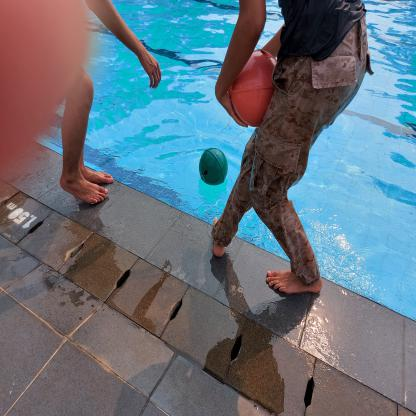green_buoy: (196, 147, 230, 187)
red_buoy: (231, 52, 278, 127)
